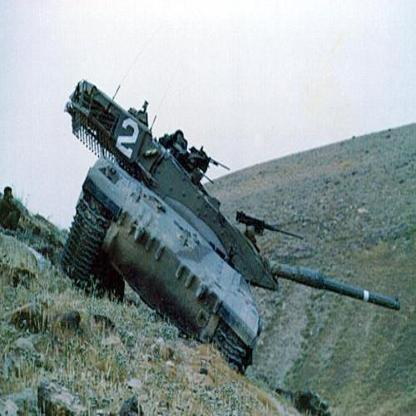Tank: (60, 80, 405, 371)
